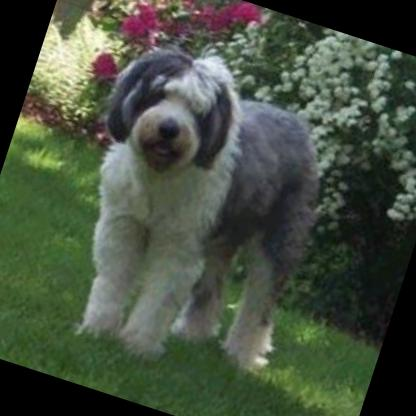Old_English_sheepdog: (30, 22, 357, 398)
